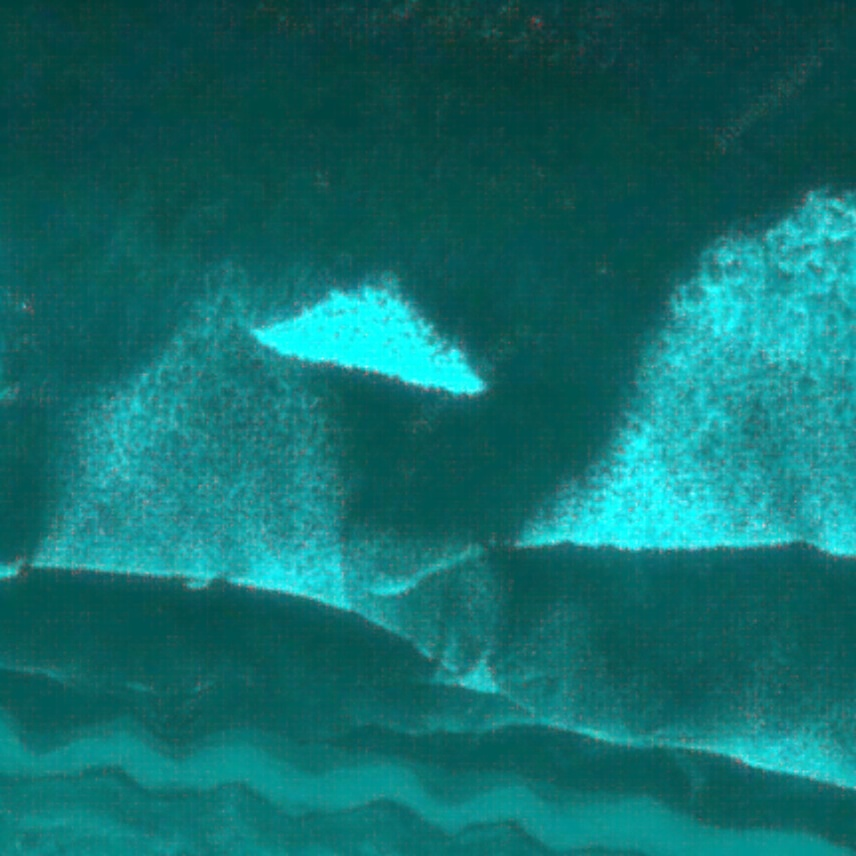rip_current: (290, 205, 656, 605)
